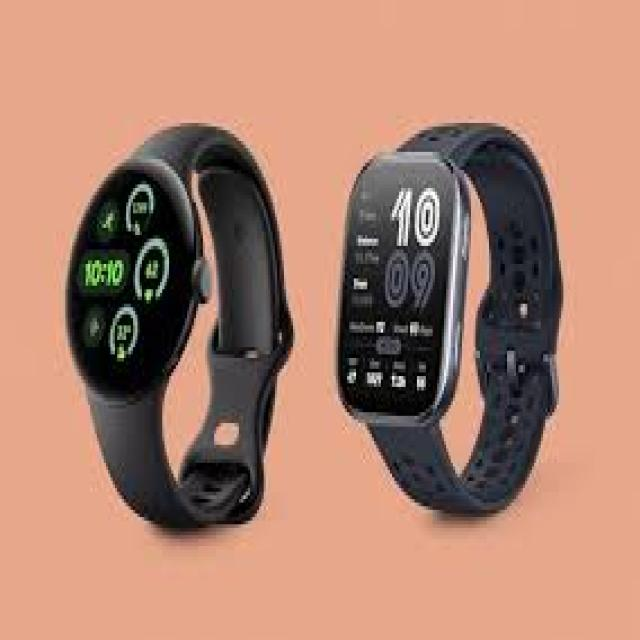objects: (68, 123, 291, 524), (338, 123, 561, 510)
